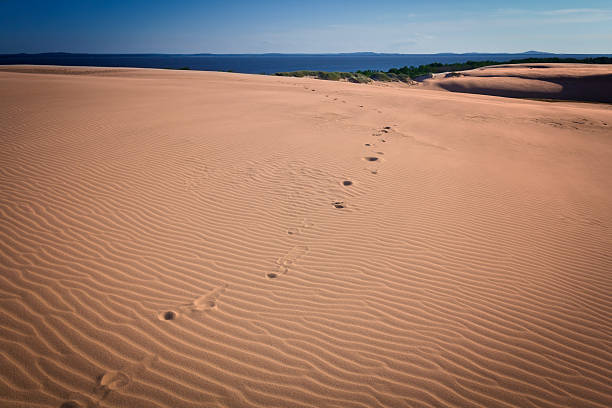human_foot_print: (93, 354, 156, 403), (158, 283, 227, 320), (266, 245, 308, 278), (287, 219, 313, 235)
